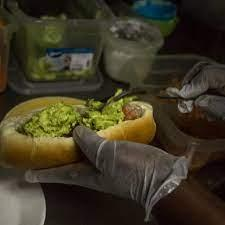Completos: (0, 82, 162, 169)
